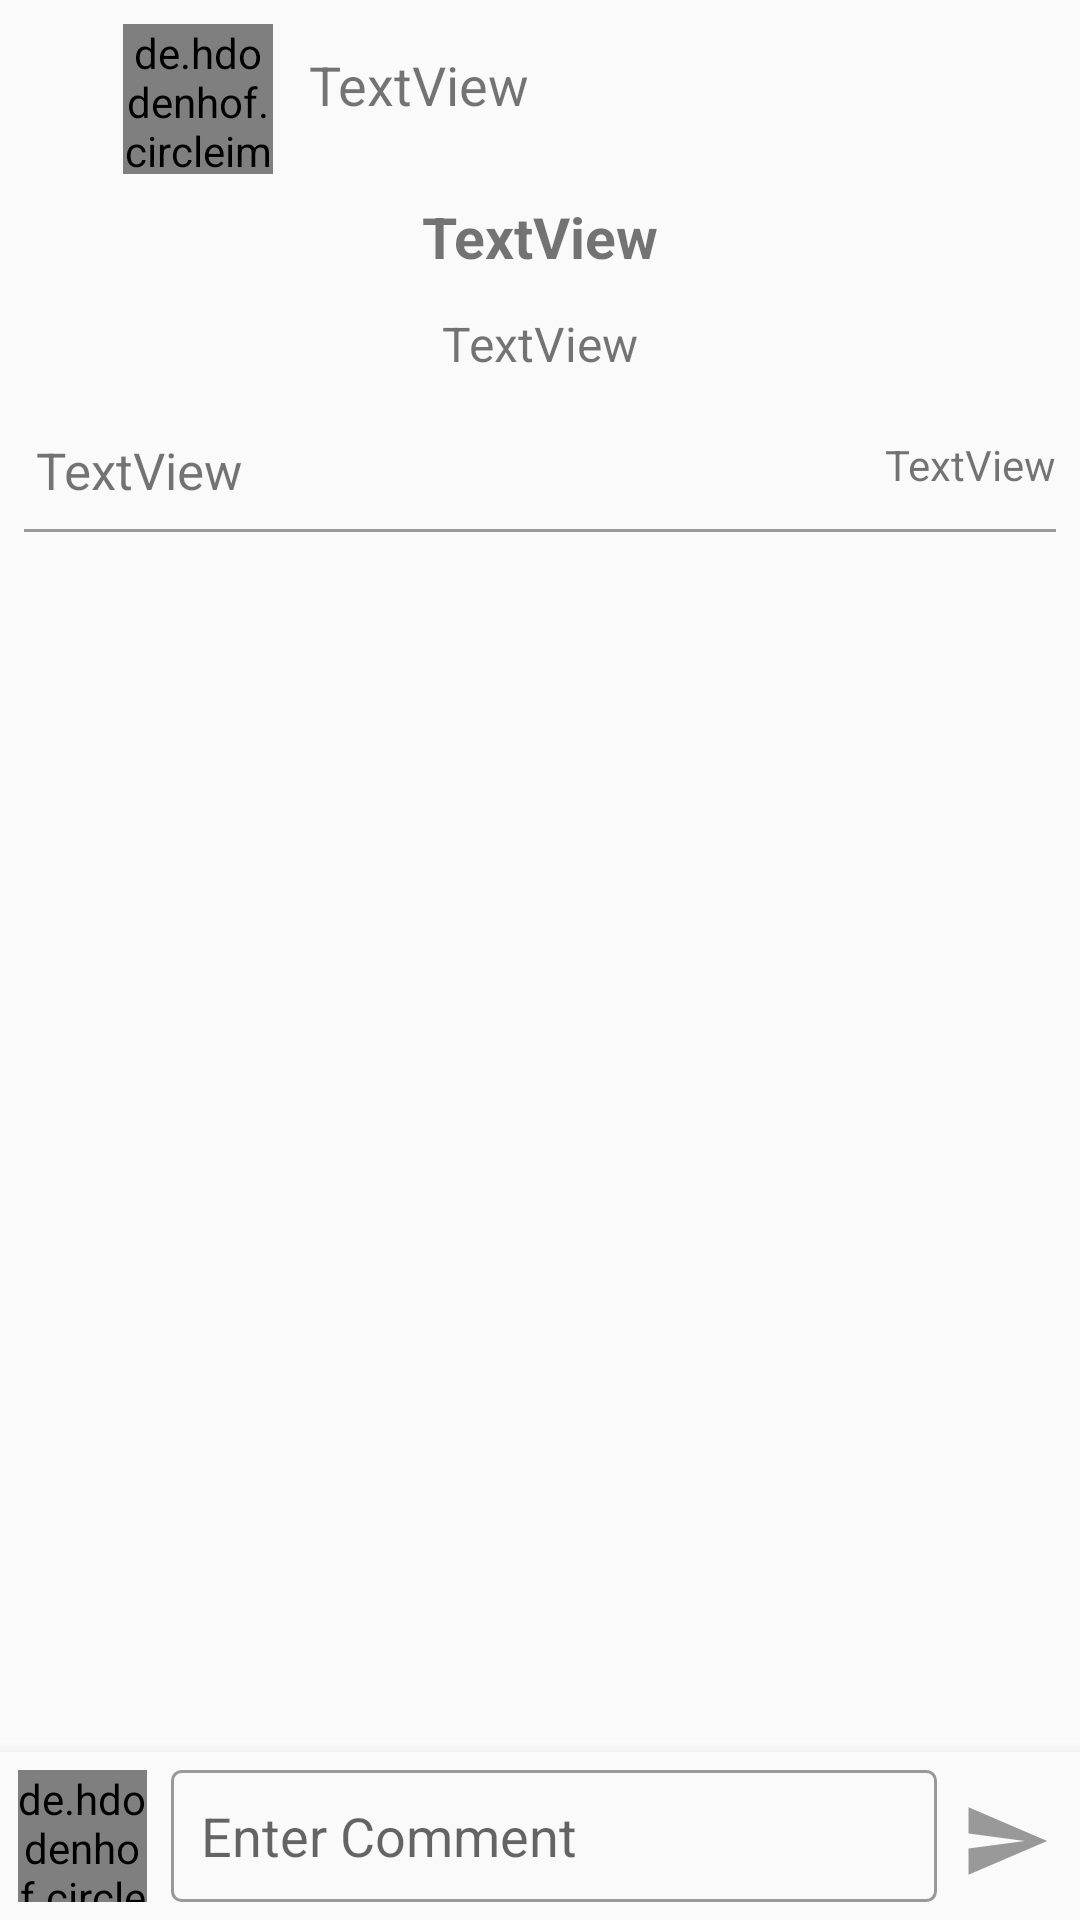

Where to tap for icons on this 1080×1920 app screen, as (x=x, y=y):
send: (x=1007, y=1841)
